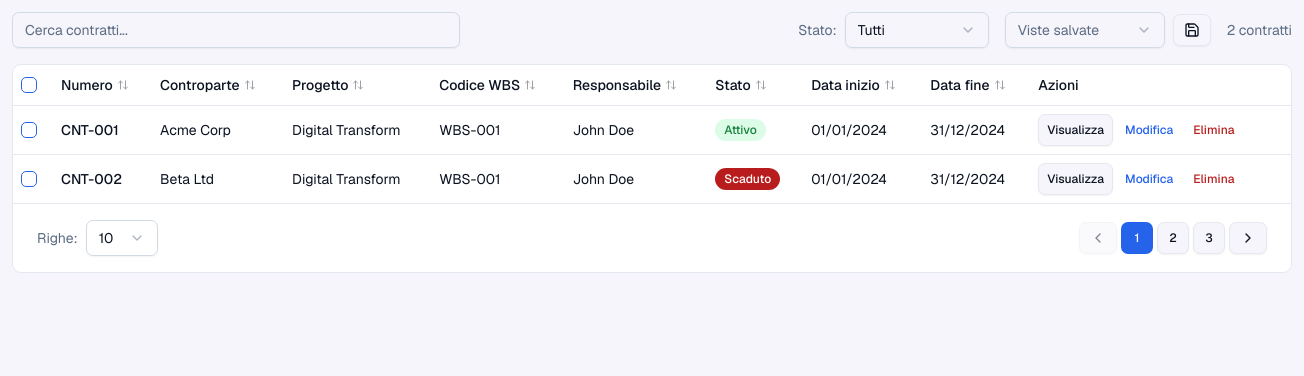
ContractTable › changes righe per pagina and resets to first page
Click the dropdown named "righe per pagina".
click(122, 238)  # box [86,220,158,256]
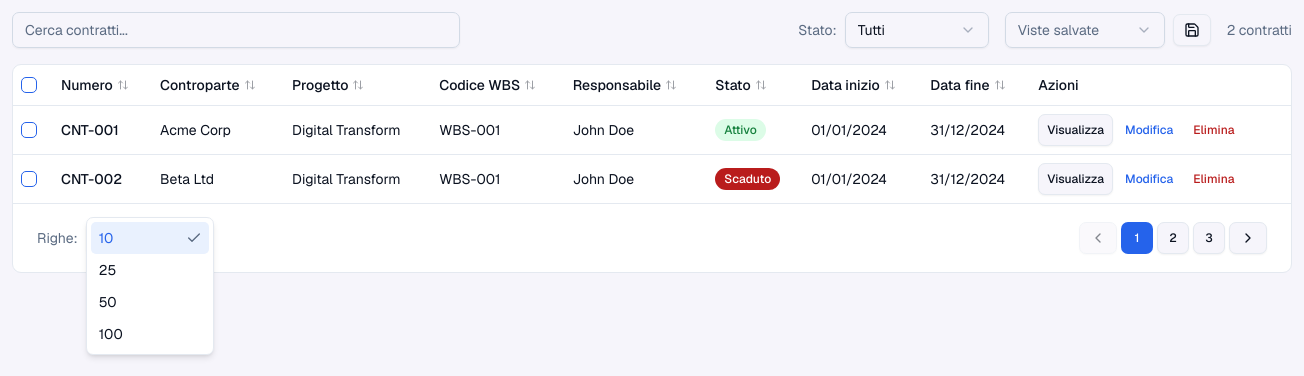
Click the option "25".
click(108, 270)  # box [99,260,116,278]
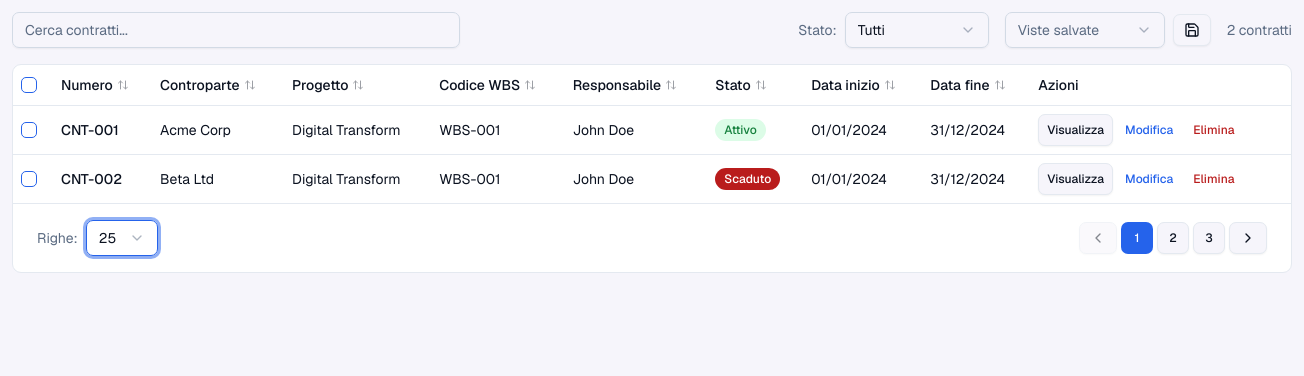
Expected: the dropdown named "righe per pagina" reads "25", [86,220,158,256]
